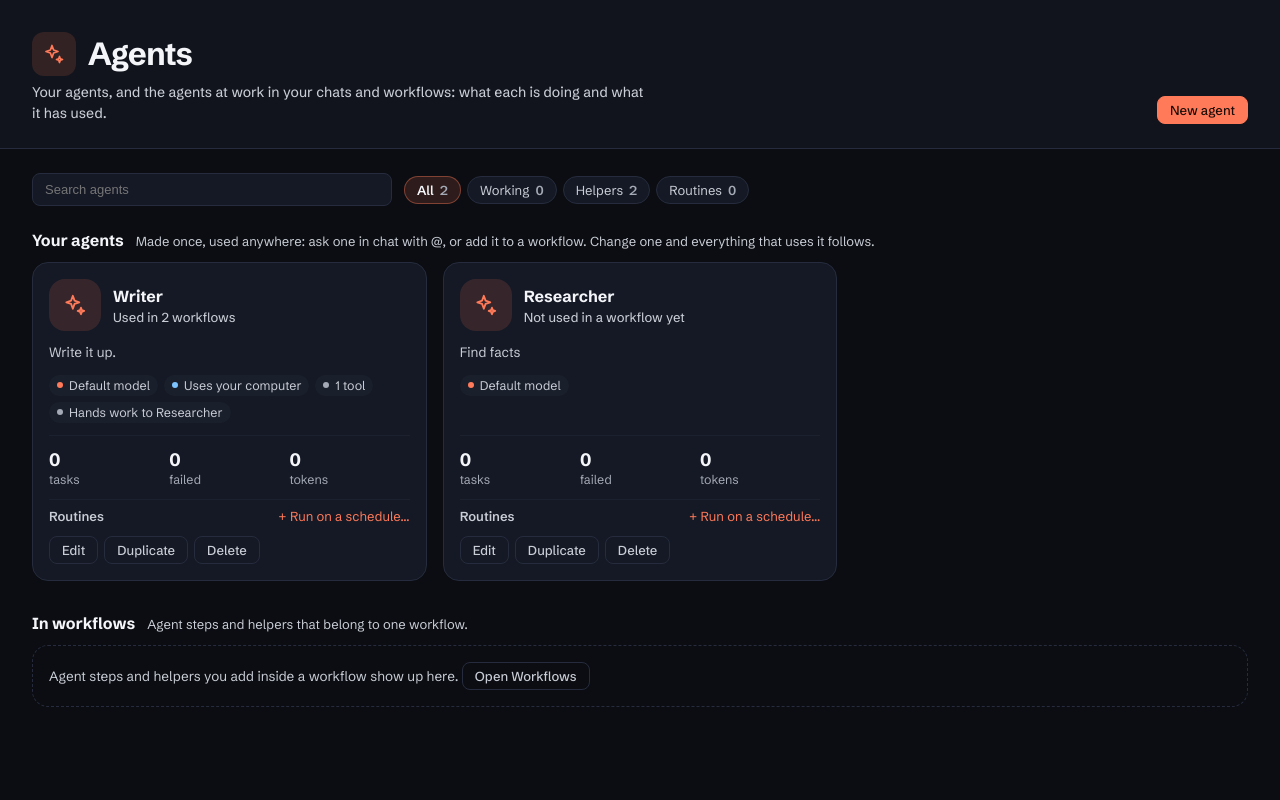
Test case: AgentsPage › opens the editor from New agent and Edit
Click the button "New agent".
click(1202, 110)  # box left=1157, top=96, right=1248, bottom=124
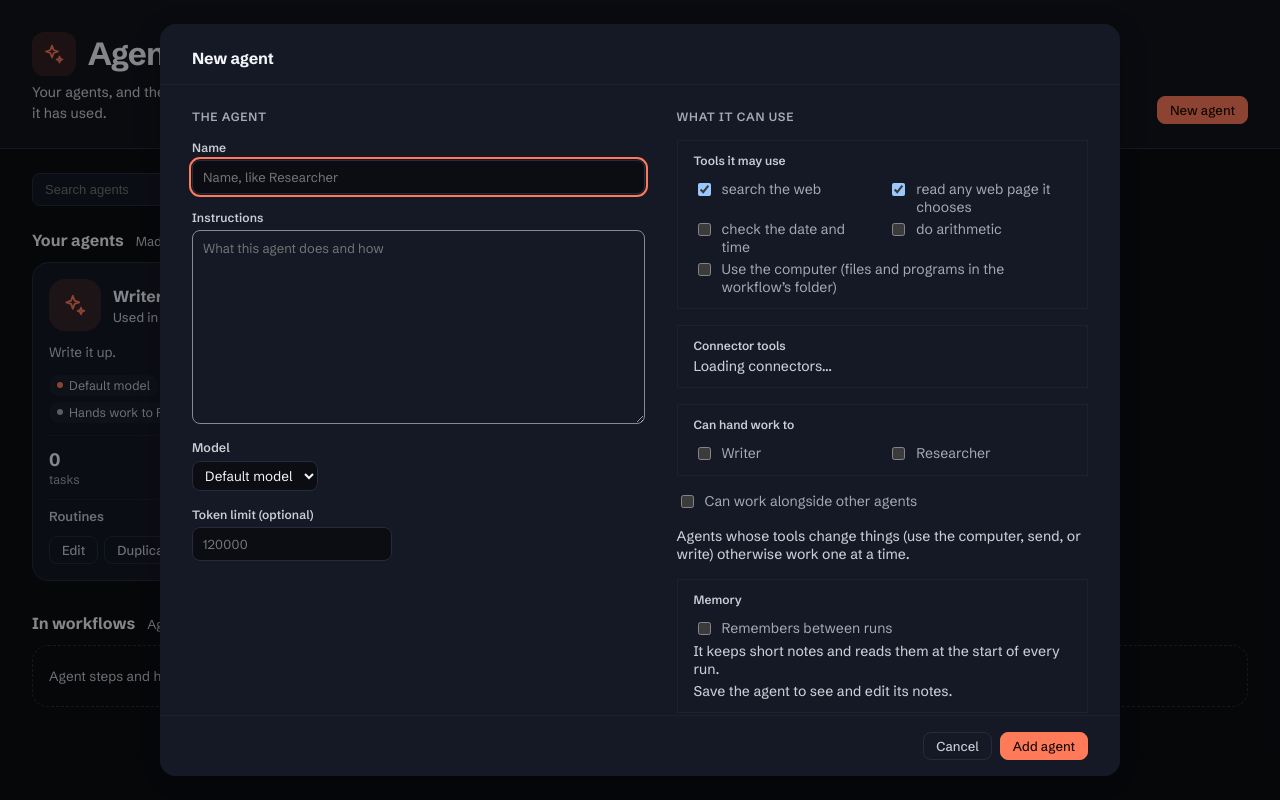
Check: the dialog "New agent" is shown
Click the button "Cancel".
click(958, 746)  # box left=923, top=732, right=992, bottom=760
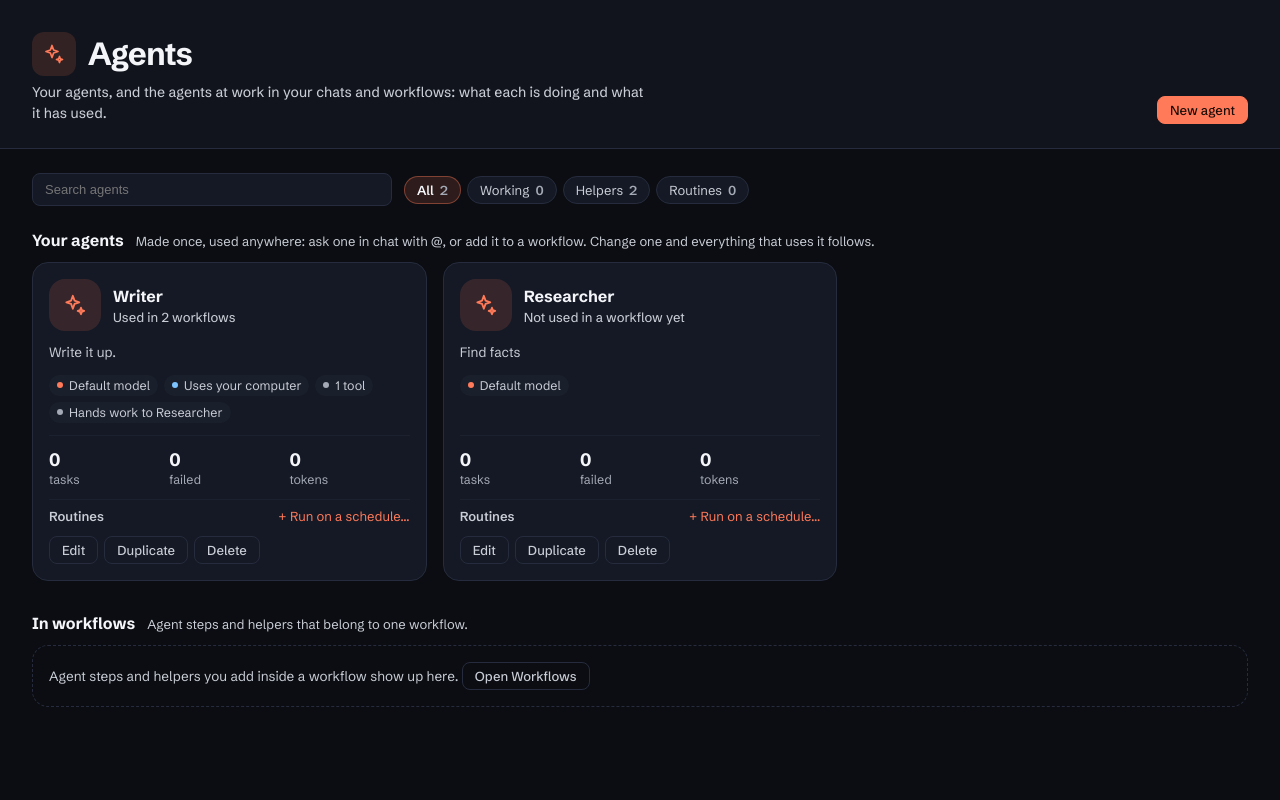
Check: the dialog is gone
Click the button with aria-label "Edit Writer".
click(74, 550)  # box left=49, top=536, right=98, bottom=564
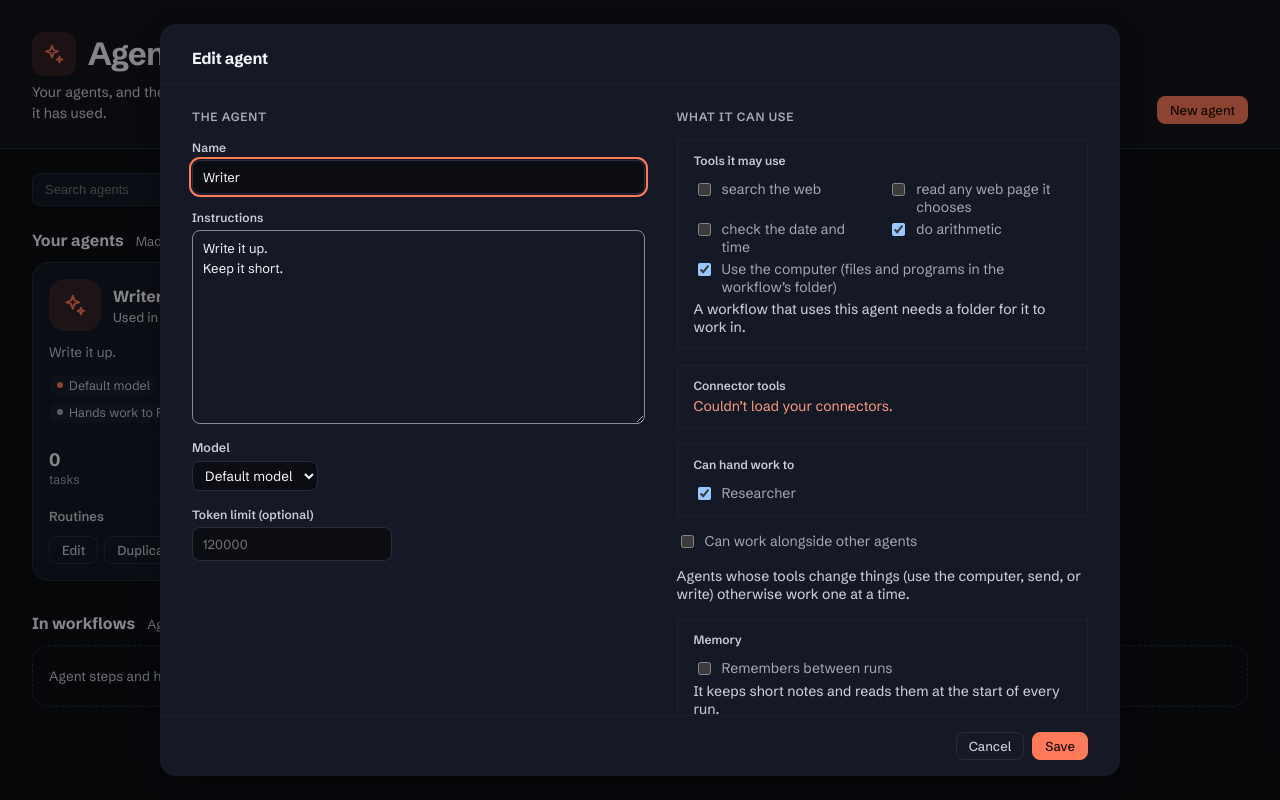
Check: the dialog "Edit agent" is shown
Check: the field showing "Writer" is shown, box left=192, top=160, right=645, bottom=194
